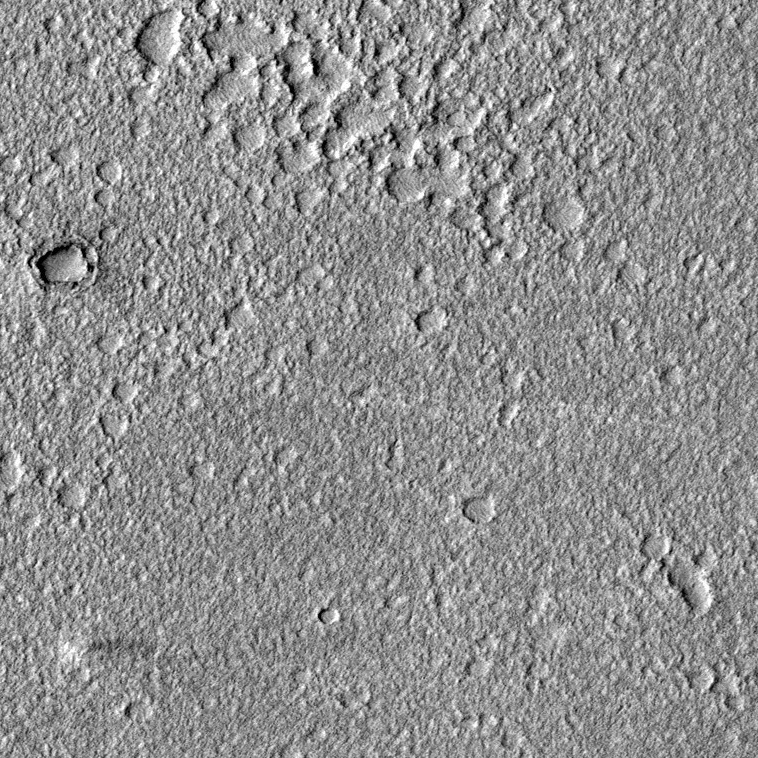dust_devil: (56, 632, 154, 668)
